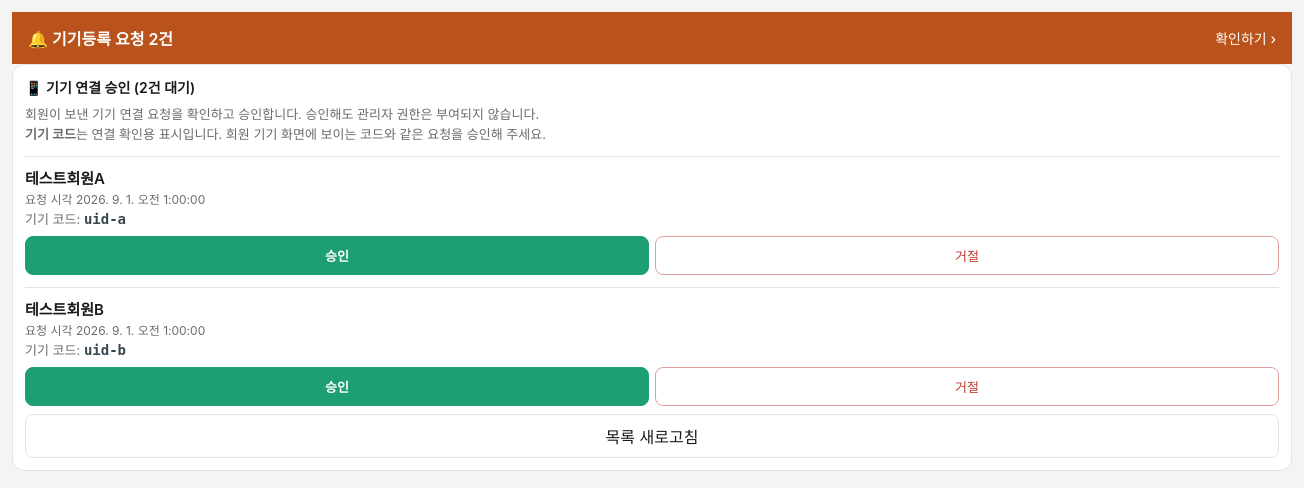
Scenario: 상단 알림 — 승인·거절 후 즉시 갱신 › H. 2건 중 1건을 거절하면 상단 알림이 바로 1건으로 줄어든다
expect the text "🔔 기기등록 요청 2건" is shown: met, box [28,26,173,50]
Click the 1st button "거절". click: {"x": 967, "y": 256}
box: [655,236,1279,275]
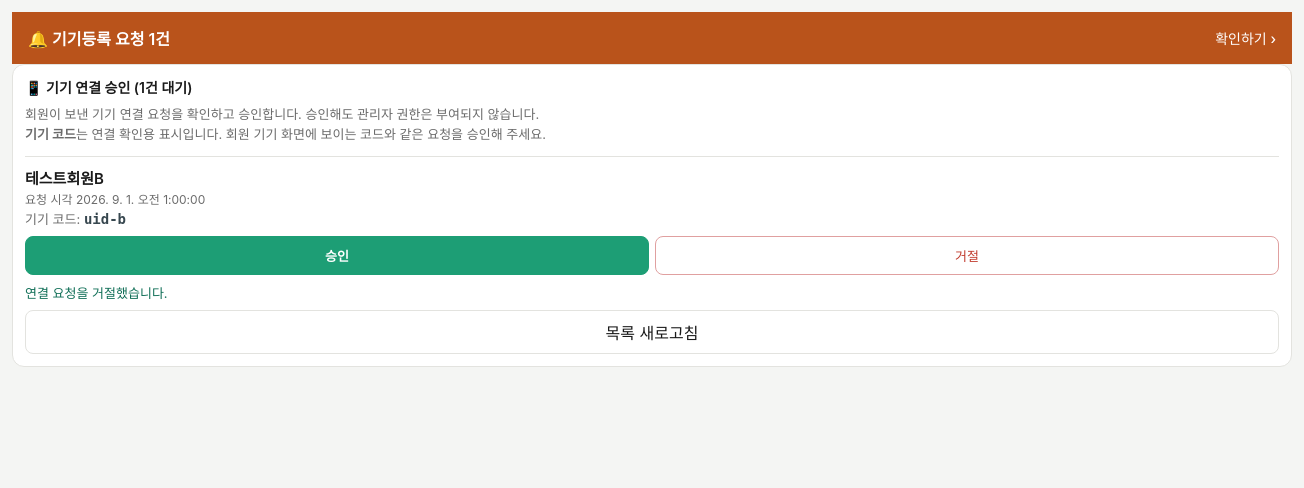
expect the text "🔔 기기등록 요청 1건" is shown: met, box [28,26,170,50]
